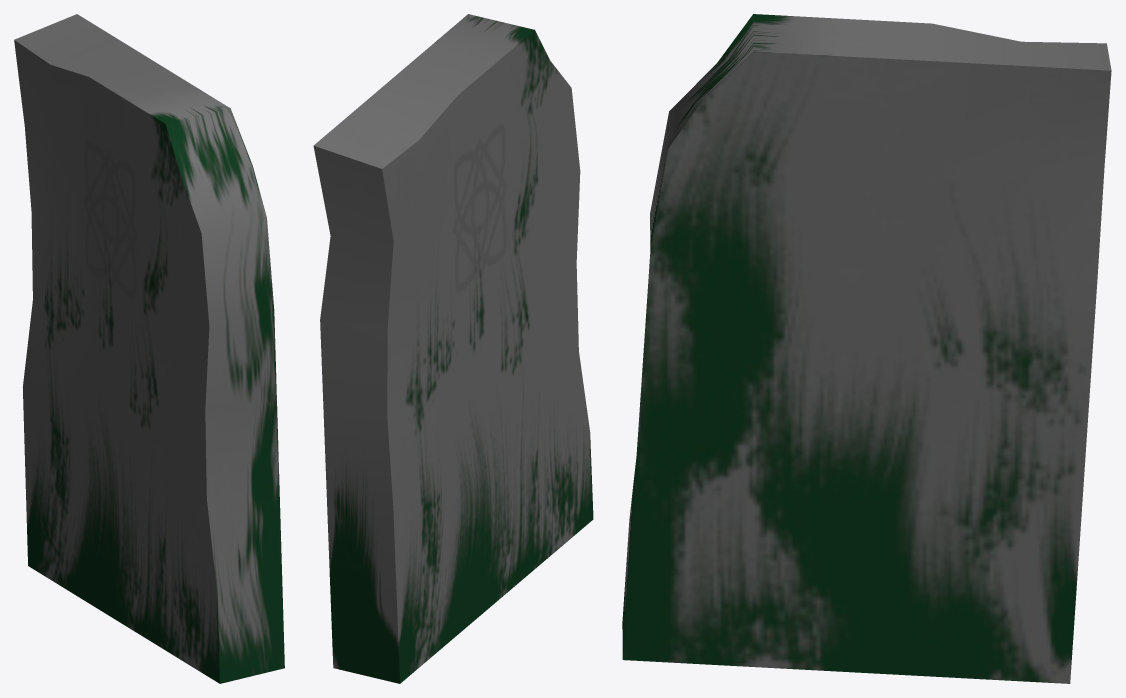
The model's file is tumba_.fbx.
3 views of the same model, side by side, from view 1: azimuth 30°, elevation 25°; view 2: azimuth 150°, elevation 25°; view 3: azimuth 270°, elevation 25° (orthographic). The views are drawn at different scales.
Visible parts, largest first — view 1: Tumba:pCube2; view 2: Tumba:pCube2; view 3: Tumba:pCube2.
Boxes of the visible parts, <box> form: Tumba:pCube2: <box>14,14,284,683</box>; Tumba:pCube2: <box>313,14,593,683</box>; Tumba:pCube2: <box>622,14,1111,683</box>.
Size of the model in its own units: 0.2663 by 2.01 by 1.41.
